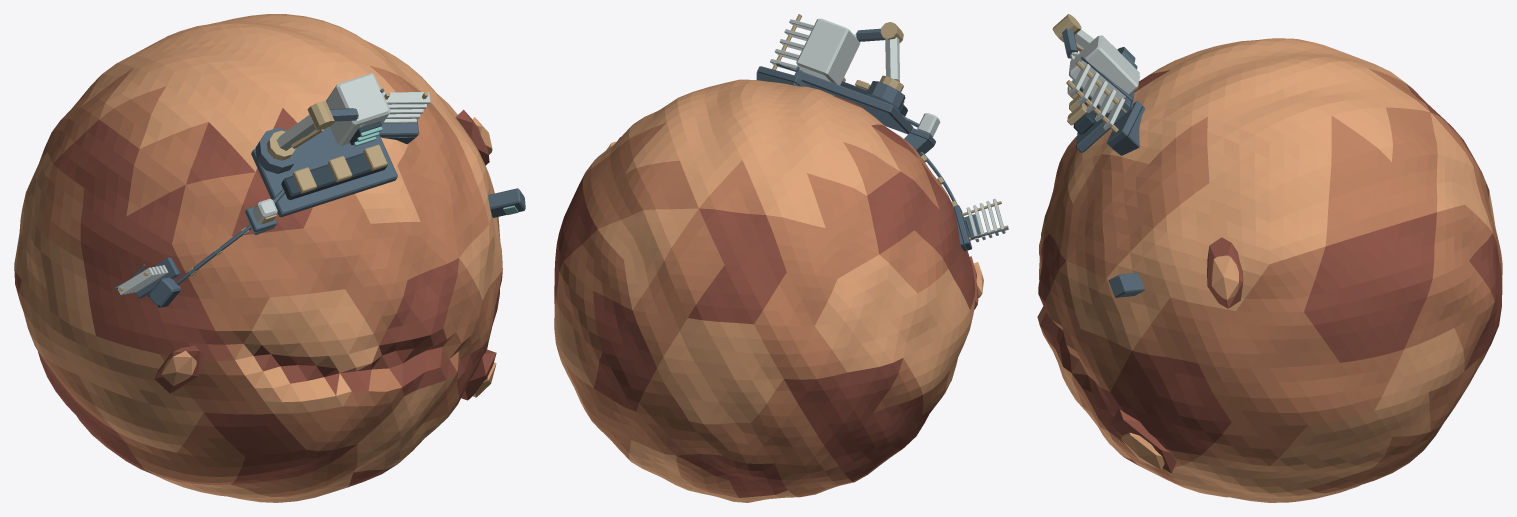
The model's file is Mars.glb.
3 views of the same model, side by side, from view 1: azimuth 30°, elevation 25°; view 2: azimuth 150°, elevation 25°; view 3: azimuth 270°, elevation 25° (orthographic). The views are drawn at different scales.
Visible parts, largest first — view 1: S9_Mars • modeled surfaces; view 2: S9_Mars • modeled surfaces; view 3: S9_Mars • modeled surfaces.
Part boxes in pixels (box(x1,y1,x2,y2)): S9_Mars • modeled surfaces: box(14, 14, 525, 502); S9_Mars • modeled surfaces: box(554, 14, 1008, 502); S9_Mars • modeled surfaces: box(1037, 14, 1502, 502).
Size of the model in its own units: 1.67 by 1.76 by 1.65.
